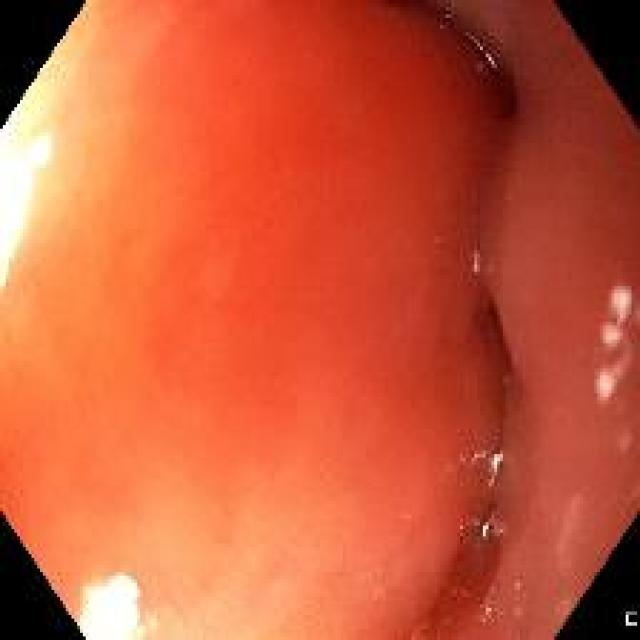color misalignment: (0, 0, 639, 638)
saturation: (0, 3, 92, 301), (75, 571, 138, 637)
specularity: (464, 30, 502, 75), (481, 514, 491, 540), (489, 451, 500, 468), (443, 8, 453, 23)
